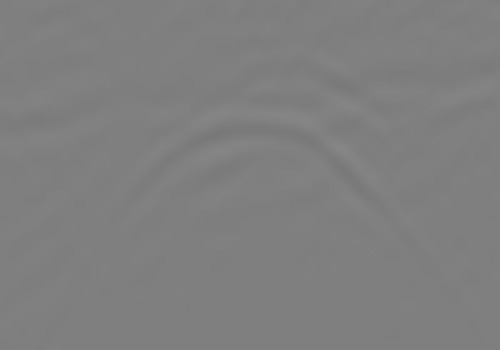hyperbola: (97, 102, 413, 279)
